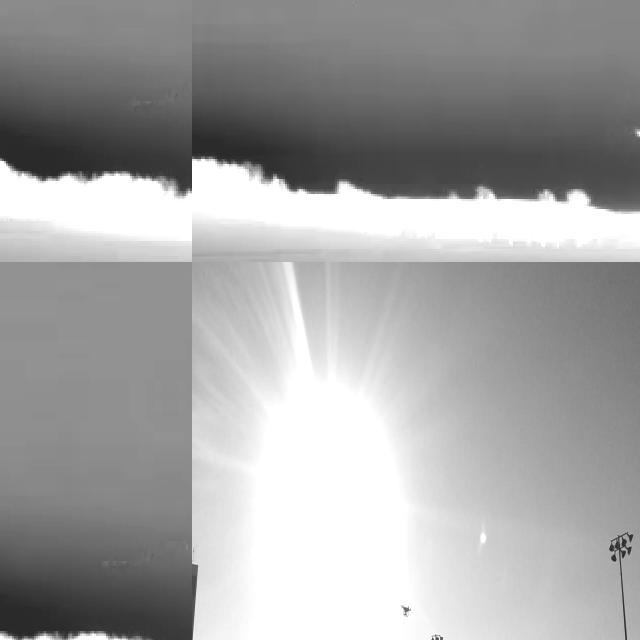0: (120, 89, 150, 121), (92, 549, 122, 581)
1: (623, 116, 640, 153)
drone: (398, 602, 414, 620)
